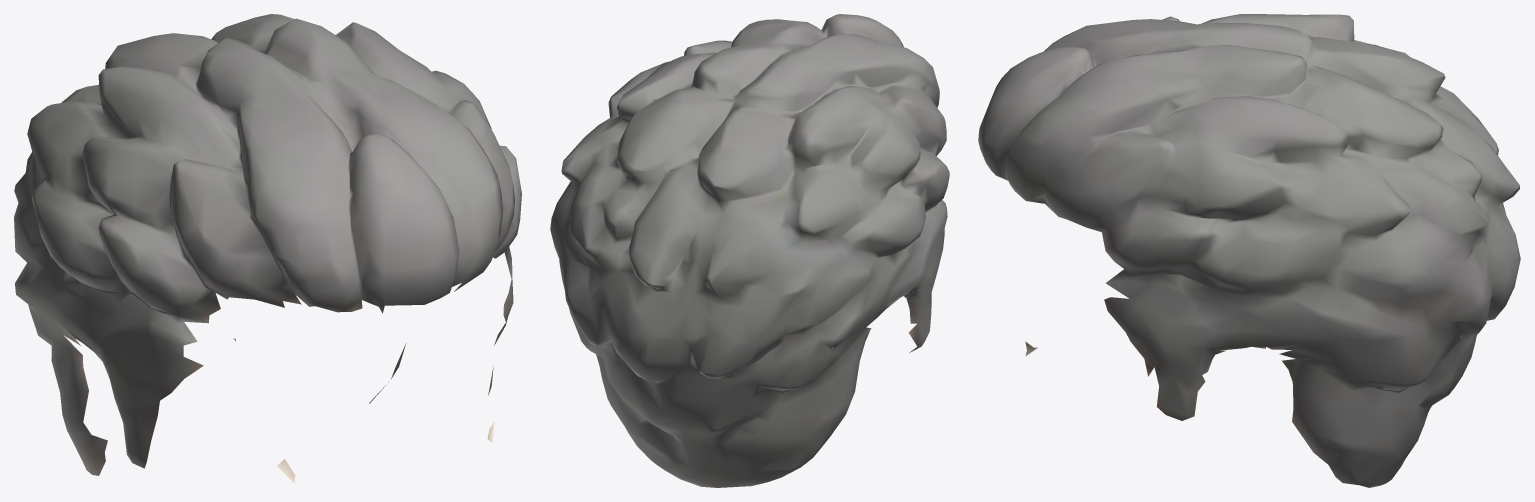
File: hair-m-crew.glb
3 renders of one model, left to right at view 1: azimuth 30°, elevation 25°; view 2: azimuth 150°, elevation 25°; view 3: azimuth 270°, elevation 25°, orthographic. The views are drawn at different scales.
Parts seen in each view (by area): view 1: hair-m-crew; view 2: hair-m-crew; view 3: hair-m-crew.
Boxes of the visible parts, x1,y1,x2,y2 form: hair-m-crew: (14,14,521,482); hair-m-crew: (550,14,949,487); hair-m-crew: (978,14,1520,487).
Size of the model in its own units: 0.8435 by 0.9564 by 1.08.
Materials: 1 (1 with a texture image).
